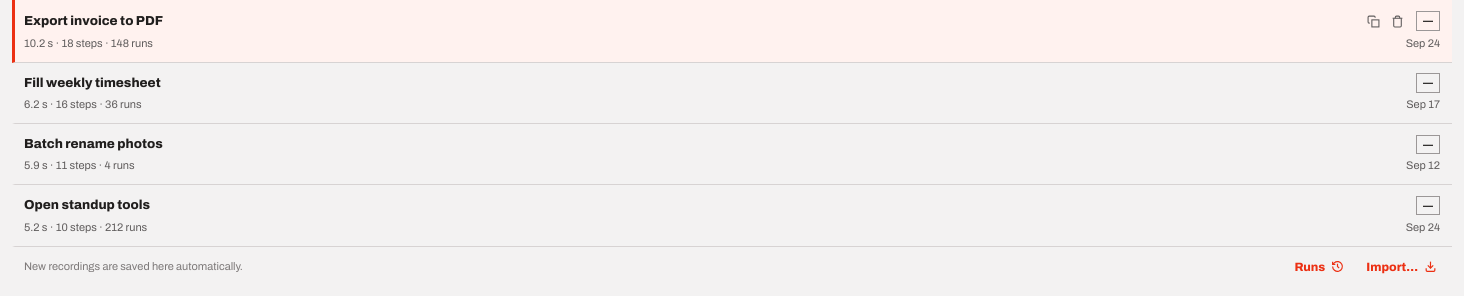
Test: Run history › Runs loads the history and lists it newest first
Step 1. Click the button "Runs" → (1319, 267), box left=1287, top=255, right=1351, bottom=279
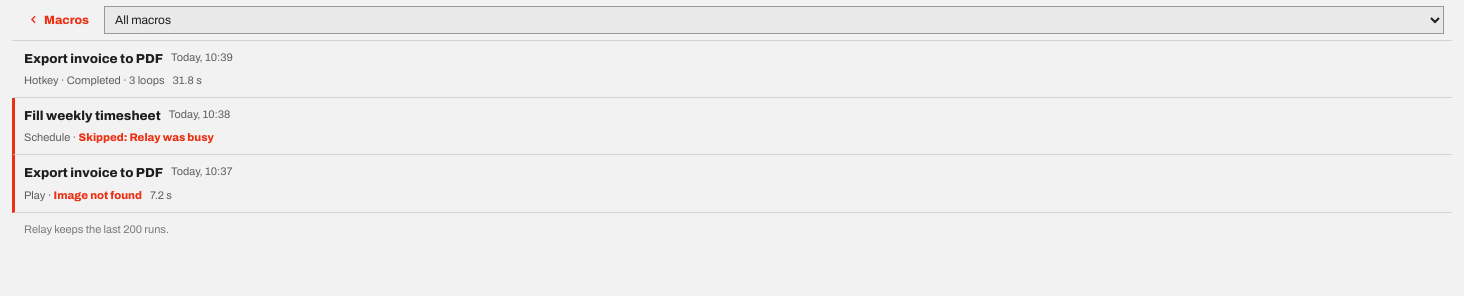
Check: the 2nd button shows "Export invoice to PDF", box left=15, top=41, right=1452, bottom=97
Check: the 2nd button reads "Export invoice to PDF Today, 10:39 Hotkey · Completed · 3 loops 31.8 s", box left=15, top=41, right=1452, bottom=97
Check: the 2nd button shows "Hotkey · Completed · 3 loops", box left=15, top=41, right=1452, bottom=97
